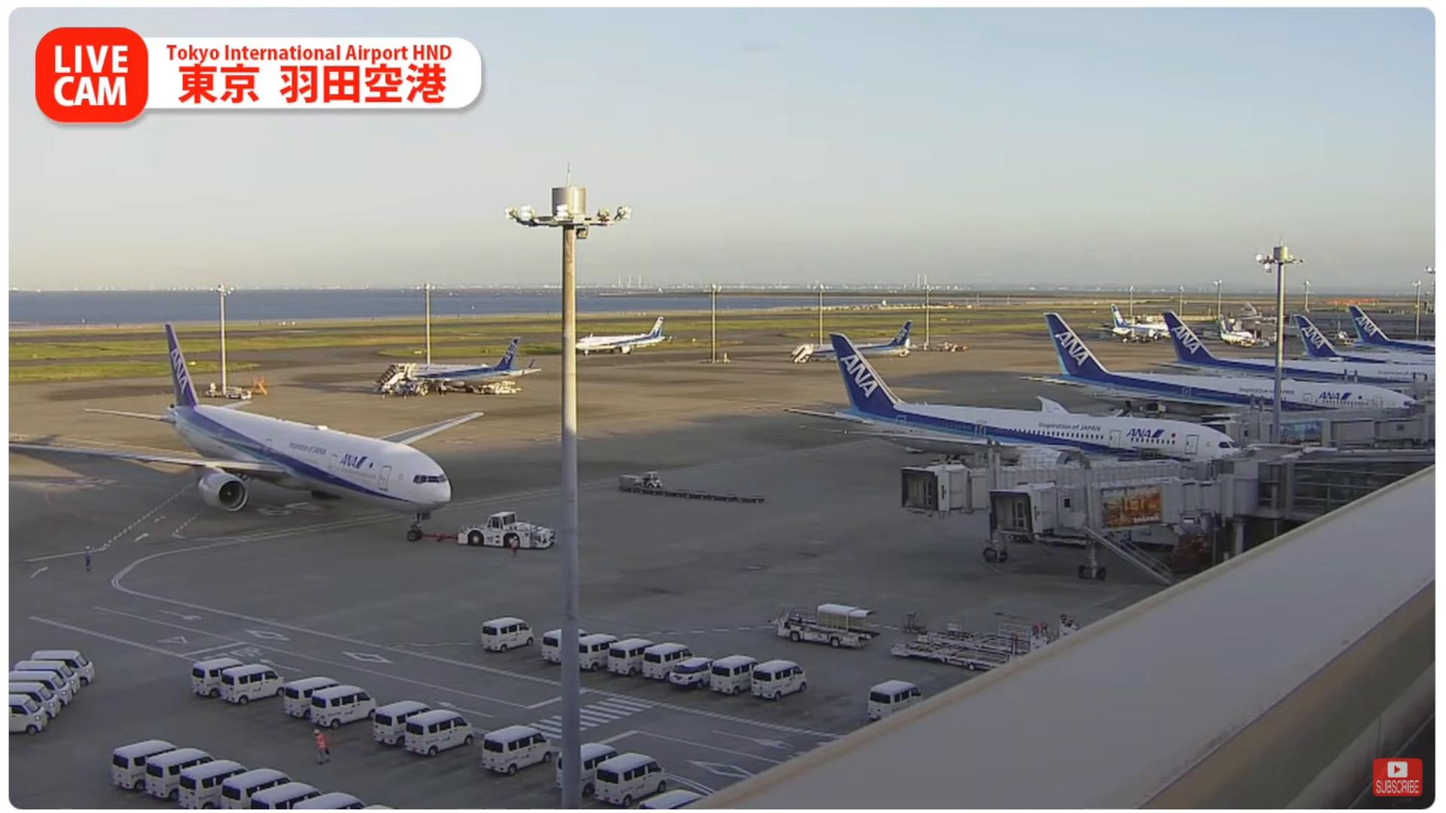APS: (456, 509, 556, 551)
Aerobridge: (992, 474, 1253, 544), (897, 462, 1214, 513)
Airplane: (10, 319, 486, 519)
JCPL: (918, 617, 1080, 654), (891, 641, 1014, 668)
Skyloader: (769, 599, 883, 648)
Window: (1253, 443, 1435, 520)
